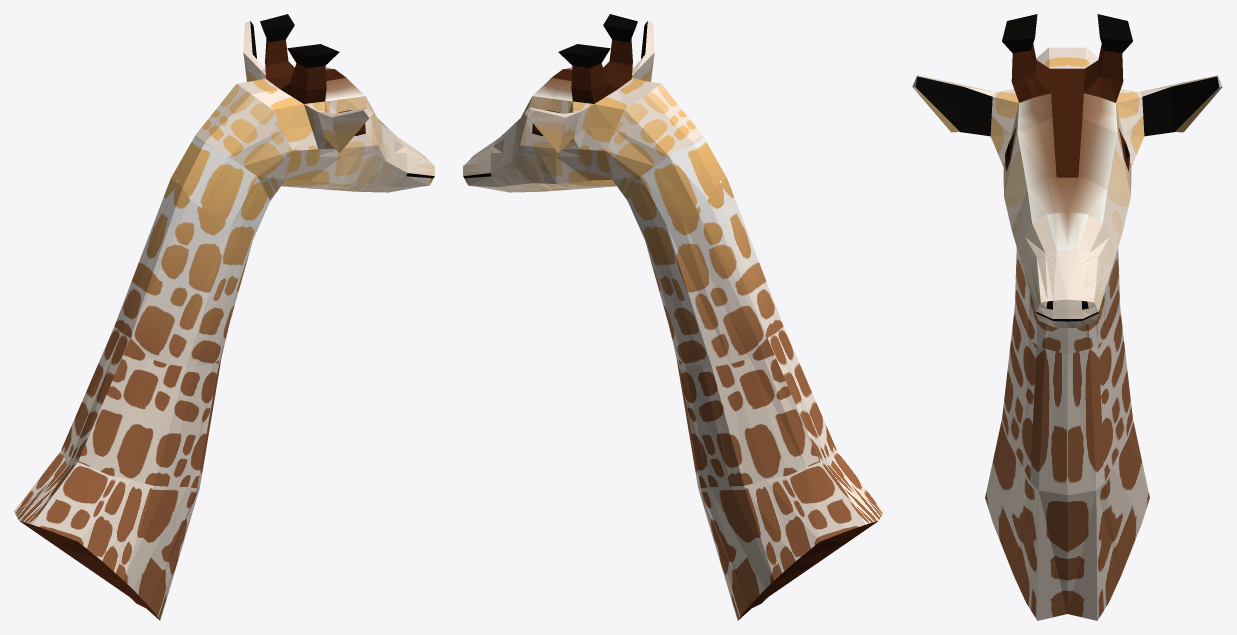
Rendered from giraffe_head.obj.
3 renders of one model, left to right at view 1: azimuth 30°, elevation 25°; view 2: azimuth 150°, elevation 25°; view 3: azimuth 270°, elevation 25°, orthographic. The views are drawn at different scales.
Parts seen in each view (by area): view 1: Plane.001; view 2: Plane.001; view 3: Plane.001.
Boxes of the visible parts, box(x1,y1,x2,y2) form: Plane.001: box(14, 14, 434, 620); Plane.001: box(463, 14, 883, 620); Plane.001: box(912, 14, 1222, 620).
Size of the model in its own units: 1.69 by 2.15 by 0.8837.
7 materials, 4 textured.
